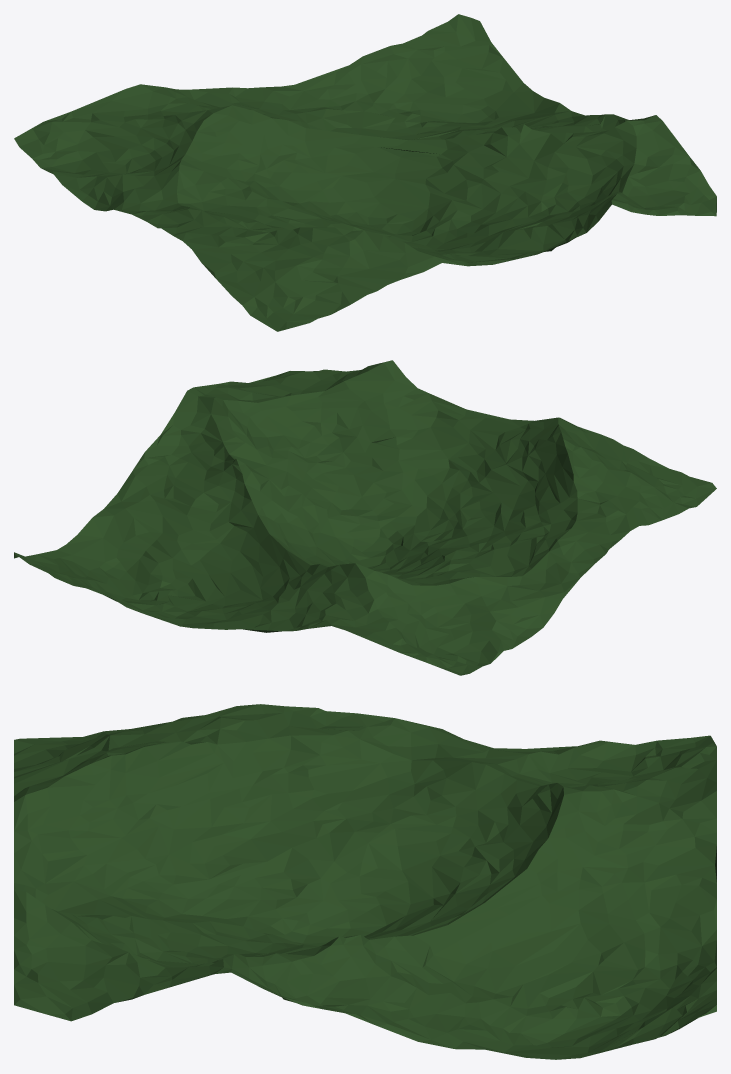
The model's file is SM_landscape_27.fbx.
3 views of the same model, one above another, from view 1: azimuth 30°, elevation 25°; view 2: azimuth 150°, elevation 25°; view 3: azimuth 270°, elevation 25° (orthographic). The views are drawn at different scales.
Visible parts, largest first — view 1: landscape_27; view 2: landscape_27; view 3: landscape_27.
Boxes of the visible parts, bbox=[...] form: landscape_27: bbox=[14, 14, 716, 331]; landscape_27: bbox=[14, 360, 716, 675]; landscape_27: bbox=[14, 704, 716, 1059].
Size of the model in its own units: 2224 by 397 by 2224.
